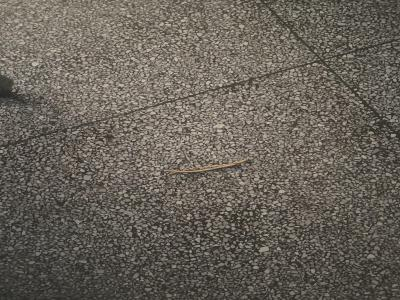Root: (166, 158, 249, 173)
